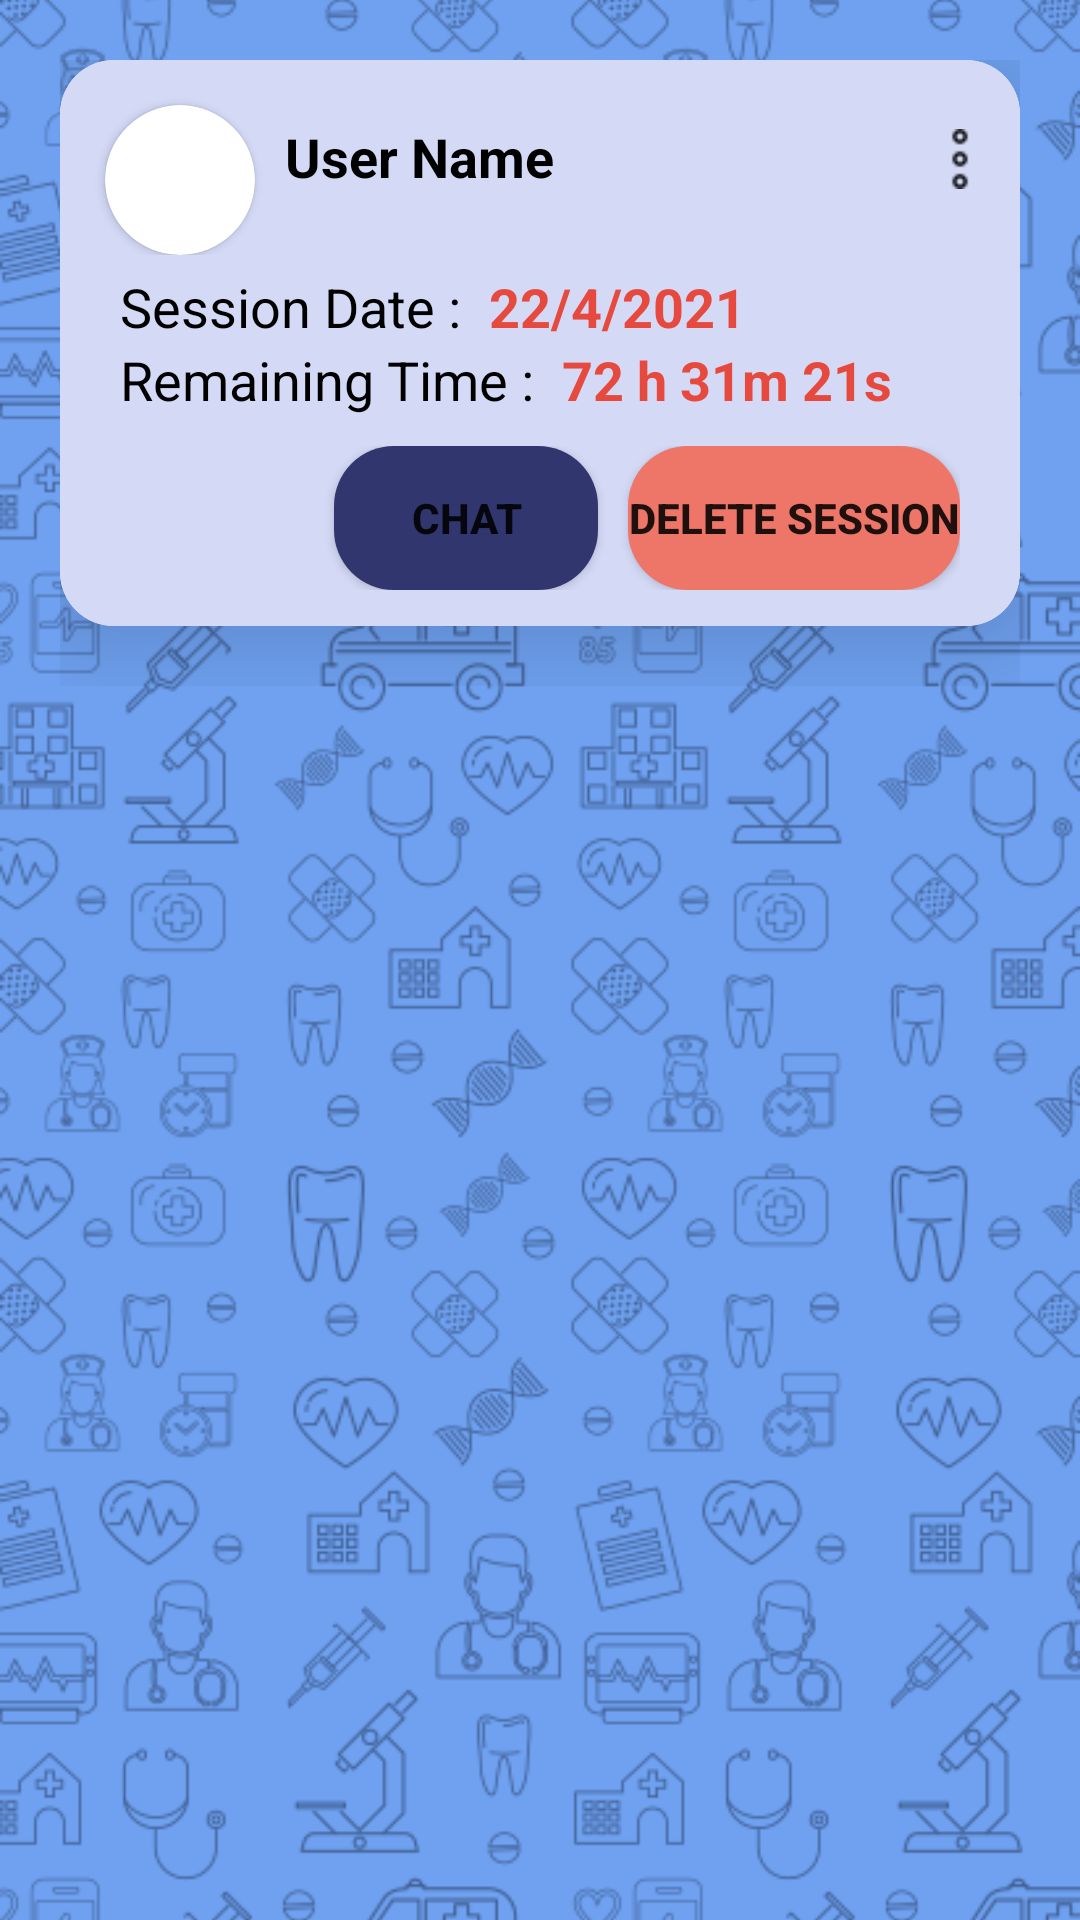

Named icons in this screenshot (1080×1920) and their bounding boxes, (x1, y1, x2, y2):
more: (952, 129, 968, 189)
